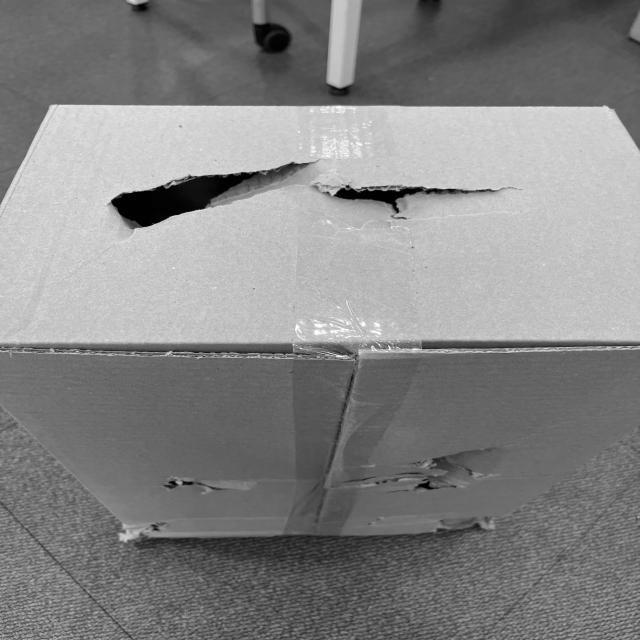hole: (111, 156, 311, 232), (320, 175, 506, 219), (378, 441, 494, 497)
